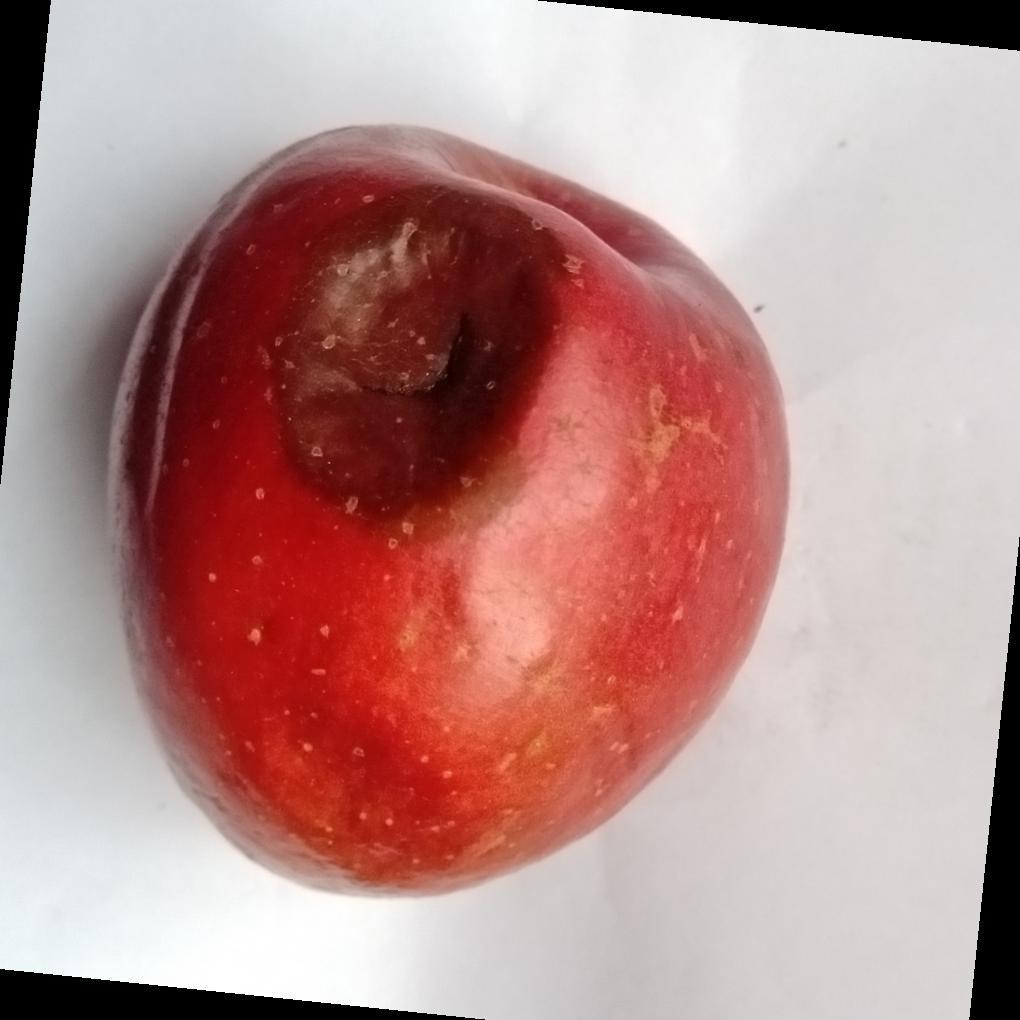FreshOrange: (103, 124, 795, 903)
